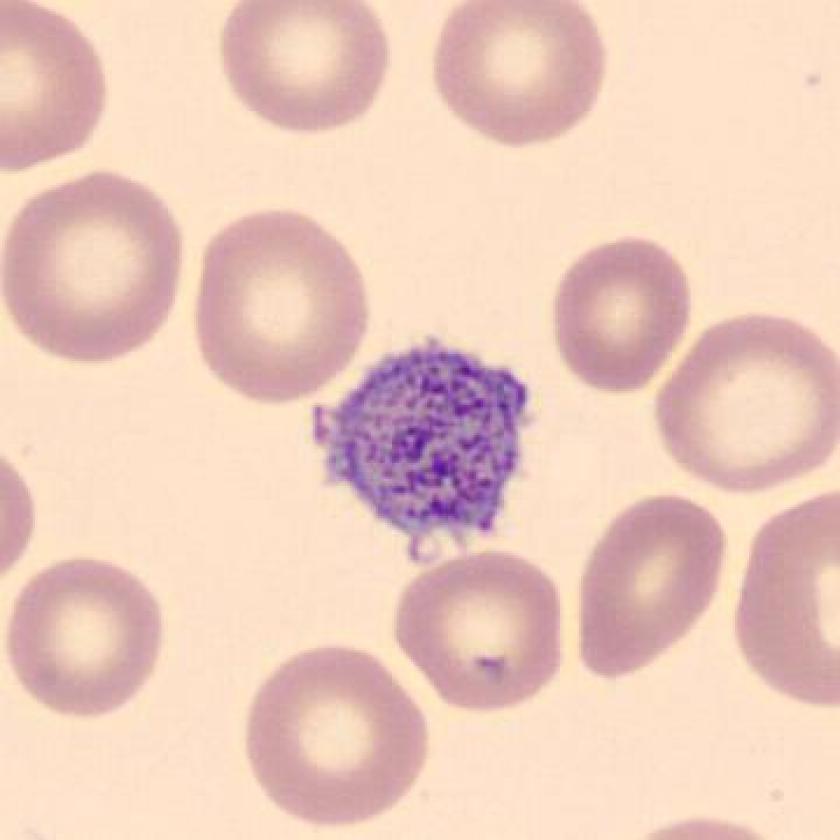platelets: (307, 332, 542, 566)
